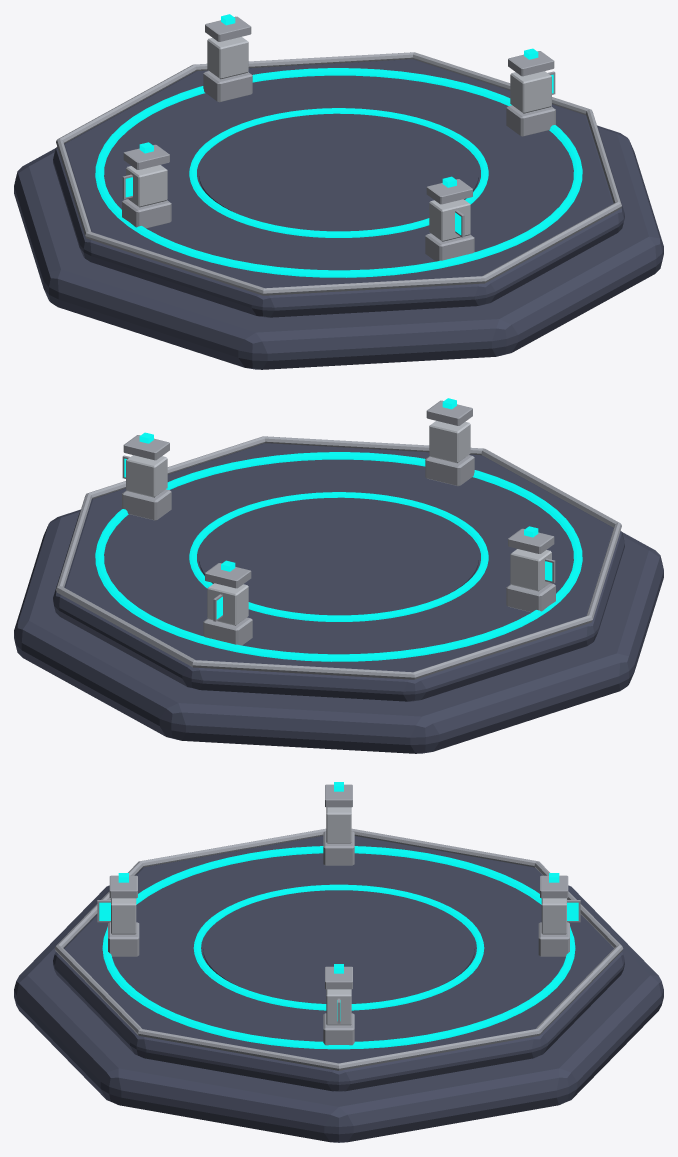
Rendered from platform.glb.
3 views of the same model, one above another, from view 1: azimuth 30°, elevation 25°; view 2: azimuth 150°, elevation 25°; view 3: azimuth 270°, elevation 25° (orthographic). The views are drawn at different scales.
Parts seen in each view (by area): view 1: Base_Upper, Base_Lower, LandingPad, EdgeRim, GlowRing_Outer, GlowRing_Inner, T2_Body, T0_Body, T1_Body, T3_Body, T2_Base, T0_Base (+6 smaller); view 2: Base_Upper, Base_Lower, LandingPad, EdgeRim, GlowRing_Outer, GlowRing_Inner, T3_Body, T0_Body, T1_Body, T2_Body, T3_Base, T0_Base (+6 smaller); view 3: Base_Upper, Base_Lower, LandingPad, EdgeRim, GlowRing_Outer, GlowRing_Inner, T1_Body, T2_Body, T3_Body, T0_Body, T1_Base, T2_Base (+6 smaller).
Boxes of the visible parts, x1,y1,x2,y2 form: Base_Upper: (53, 59, 624, 317); Base_Lower: (14, 125, 663, 369); LandingPad: (199, 113, 478, 231); EdgeRim: (56, 52, 621, 295); GlowRing_Outer: (95, 68, 582, 277); GlowRing_Inner: (189, 108, 488, 237); T2_Body: (207, 36, 248, 79); T0_Body: (510, 71, 551, 113); T1_Body: (126, 165, 167, 207); T3_Body: (429, 199, 470, 241); T2_Base: (203, 71, 252, 102); T0_Base: (506, 105, 555, 136); Base_Upper: (53, 443, 624, 701); Base_Lower: (14, 509, 663, 753); LandingPad: (199, 497, 478, 615); EdgeRim: (56, 436, 621, 679); GlowRing_Outer: (95, 452, 582, 661); GlowRing_Inner: (189, 492, 488, 621); T3_Body: (429, 420, 470, 463); T0_Body: (126, 455, 167, 497); T1_Body: (510, 549, 551, 591); T2_Body: (207, 583, 248, 625); T3_Base: (425, 455, 474, 486); T0_Base: (122, 489, 171, 520); Base_Upper: (53, 836, 624, 1091); Base_Lower: (14, 885, 663, 1142); LandingPad: (203, 890, 474, 1003); EdgeRim: (54, 828, 623, 1070); GlowRing_Outer: (102, 846, 575, 1049); GlowRing_Inner: (193, 884, 484, 1010); T1_Body: (326, 807, 351, 843); T2_Body: (541, 898, 566, 934); T3_Body: (111, 898, 136, 934); T0_Body: (326, 989, 351, 1025); T1_Base: (323, 831, 354, 865); T2_Base: (538, 922, 569, 956).
Bounding box in the file's own units: 11.47 × 2.65 × 11.47.
